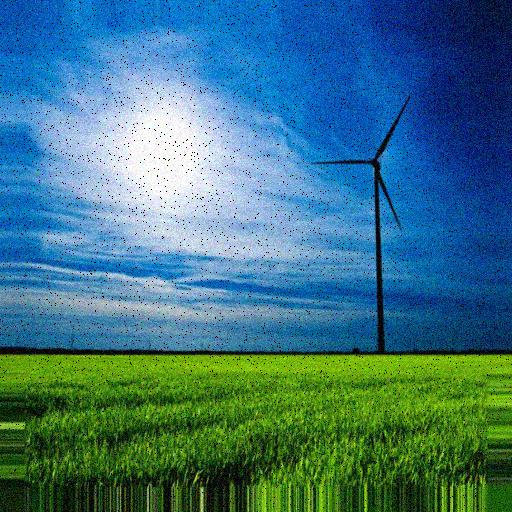wind turbine: (309, 95, 414, 353)
